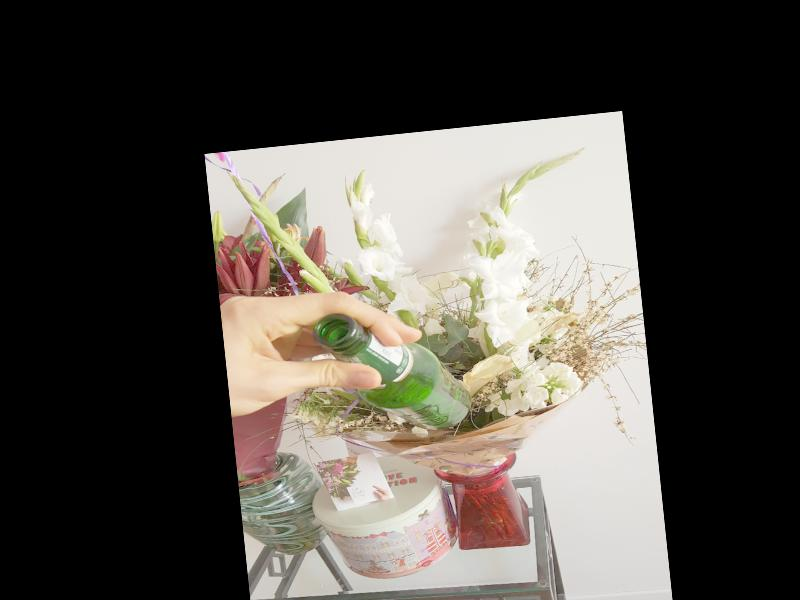Beer: (314, 300, 472, 440)
